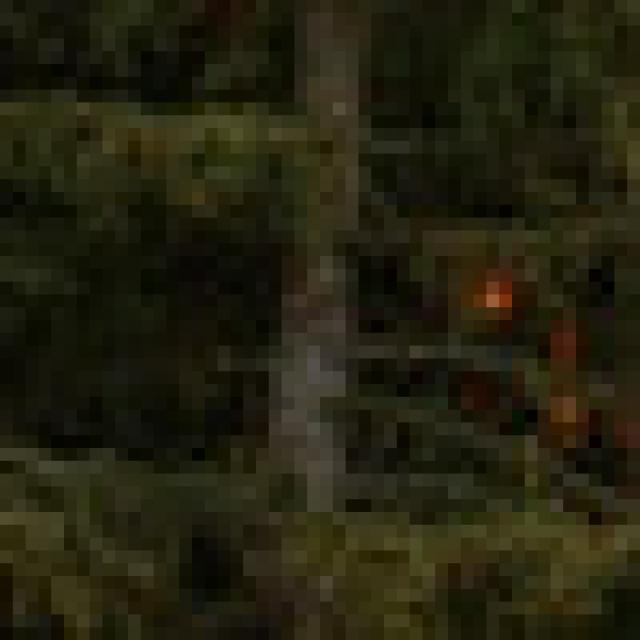no_fire: (0, 17, 640, 604)
